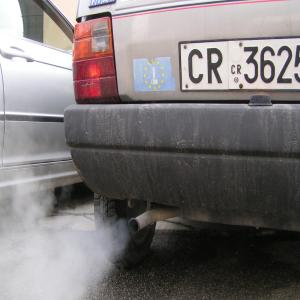Vehicle-registration-plate: (182, 40, 300, 91)
